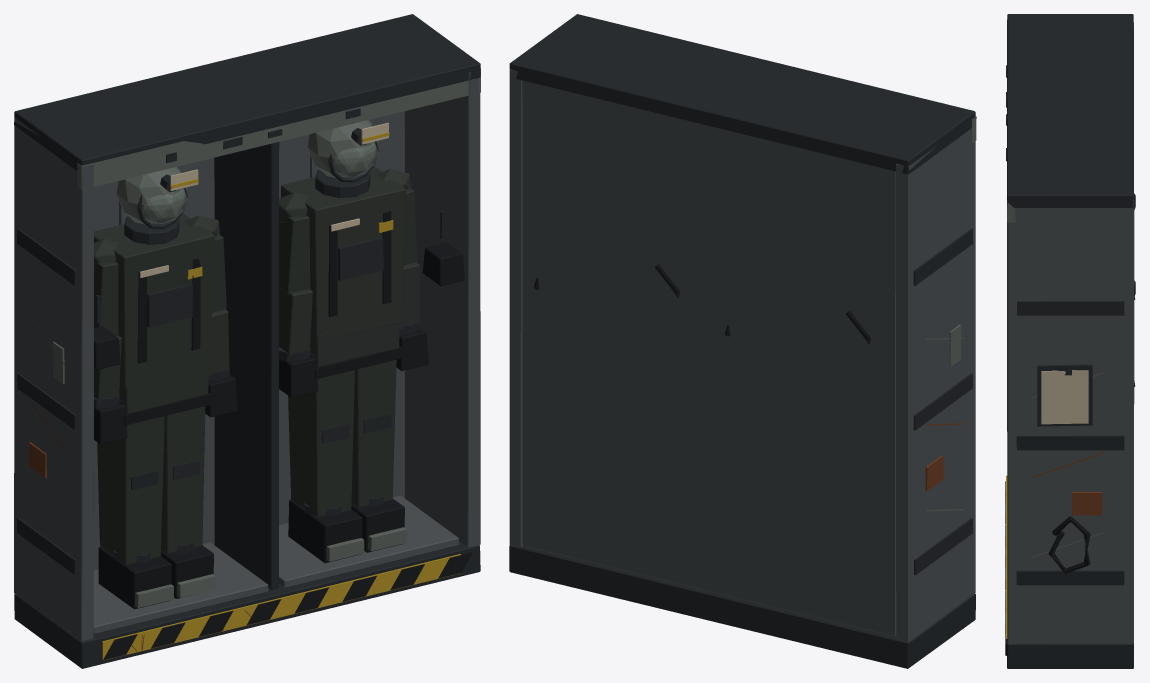
Rendered from airlock_lockers.glb.
3 renders of one model, left to right at view 1: azimuth 30°, elevation 25°; view 2: azimuth 150°, elevation 25°; view 3: azimuth 270°, elevation 25°, orthographic. The views are drawn at different scales.
Parts seen in each view (by area): view 1: airlock_lockers; view 2: airlock_lockers; view 3: airlock_lockers.
Boxes of the visible parts, bbox=[...] form: airlock_lockers: bbox=[14, 14, 480, 668]; airlock_lockers: bbox=[509, 14, 976, 668]; airlock_lockers: bbox=[1005, 14, 1135, 668].
Size of the model in its own units: 1.61 by 1.9 by 0.4735.
